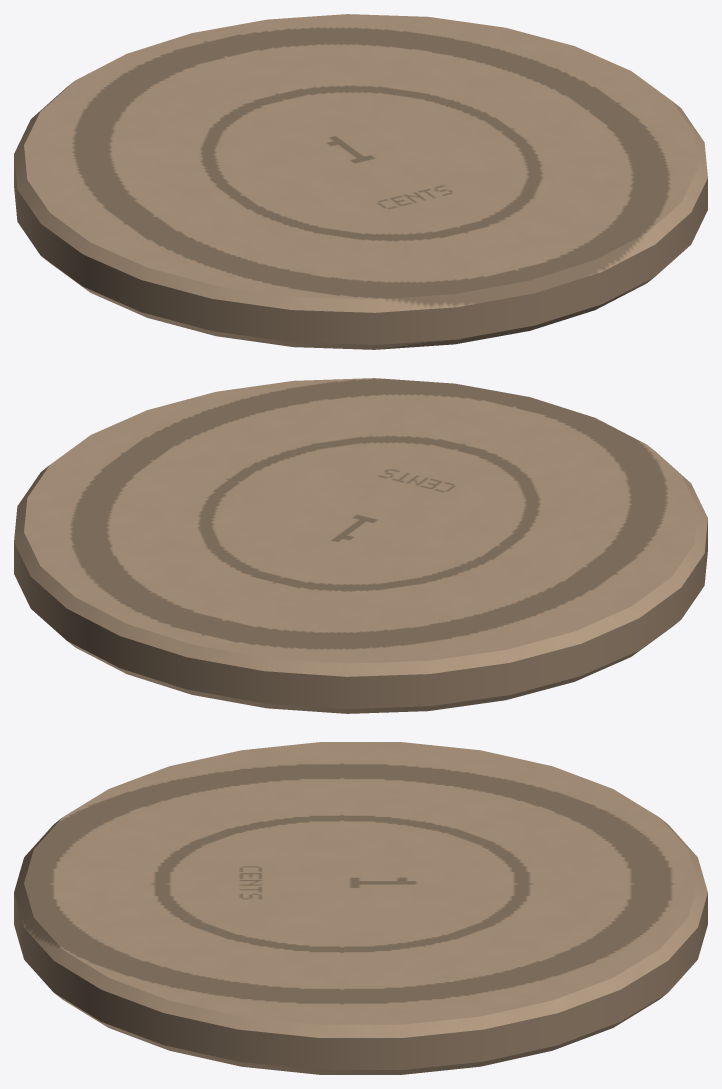
File: cash_coin_01.glb
3 renders of one model, top to bottom at view 1: azimuth 30°, elevation 25°; view 2: azimuth 150°, elevation 25°; view 3: azimuth 270°, elevation 25°, orthographic.
Visible parts, largest first — view 1: Coin_Body; view 2: Coin_Body; view 3: Coin_Body.
Boxes of the visible parts, <box> form: Coin_Body: <box>14,14,707,349</box>; Coin_Body: <box>14,378,707,713</box>; Coin_Body: <box>14,742,707,1074</box>.
Size of the model in its own units: 0.0189 by 0.00152 by 0.0191.
1 material, 1 textured.
